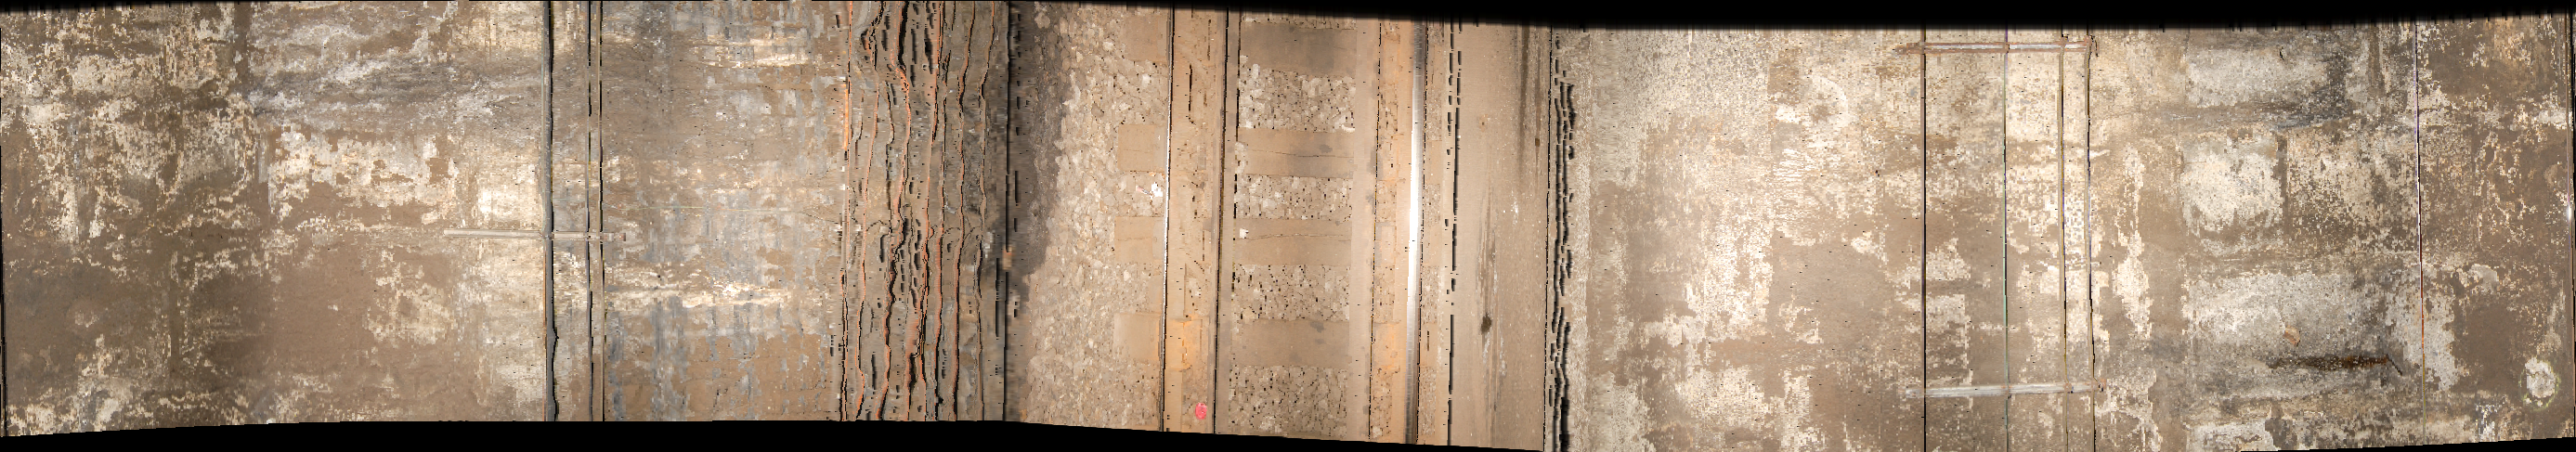pipes: (843, 12, 1020, 427), (1996, 36, 2108, 452), (539, 2, 614, 444), (1917, 31, 1940, 452)
tracks: (1163, 8, 1457, 452)
